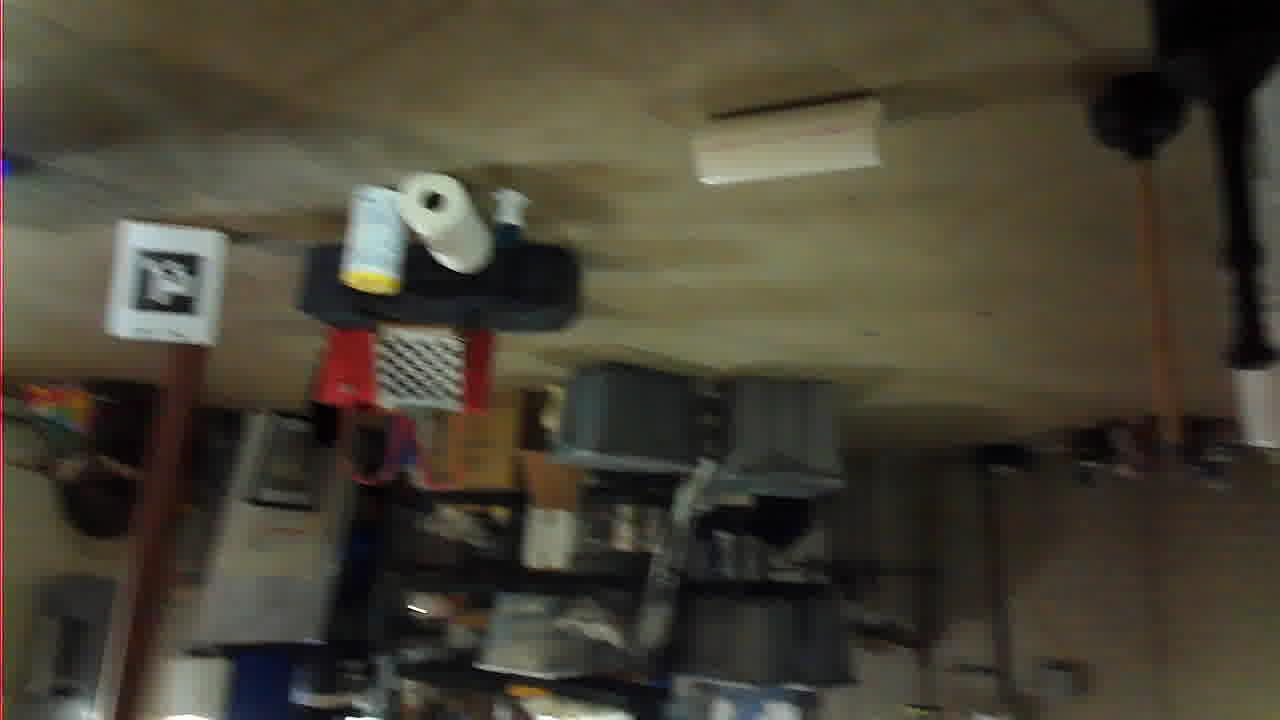coral: (395, 534, 587, 624)
